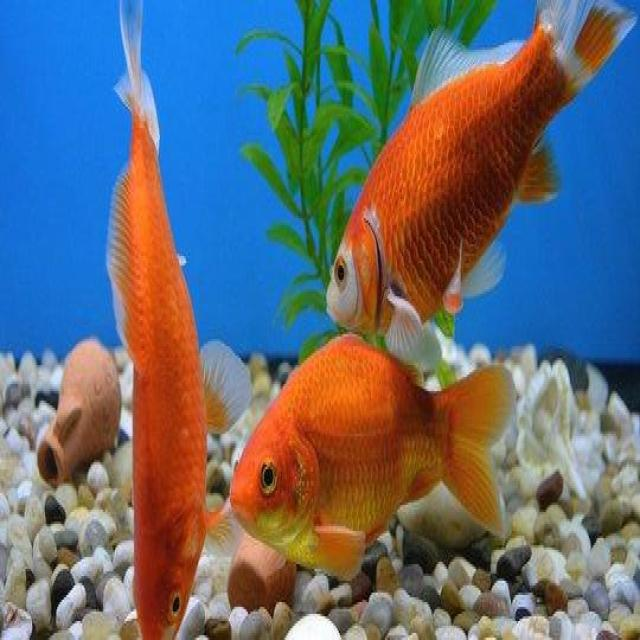GoldFish: (320, 0, 640, 348), (100, 9, 226, 640), (229, 330, 519, 592)
